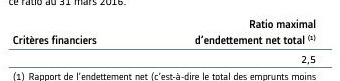table: (0, 0, 340, 81)
